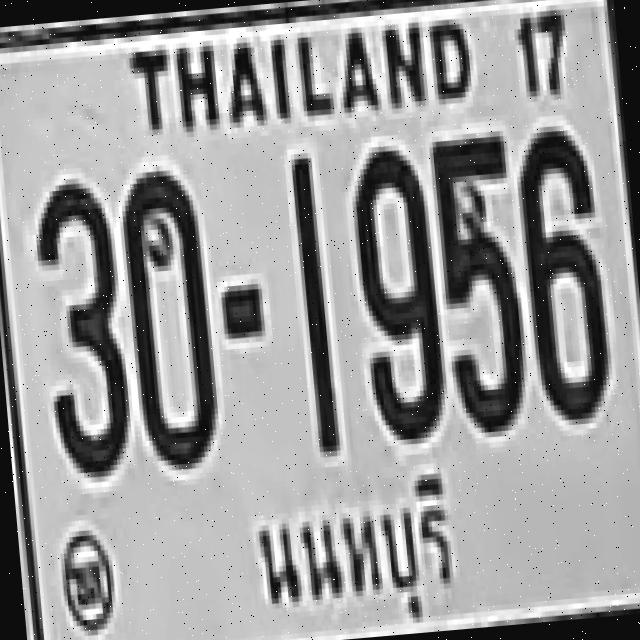0: (117, 162, 220, 467)
1: (286, 152, 336, 447)
3: (30, 178, 133, 478)
5: (428, 130, 528, 430)
6: (513, 124, 609, 422)
9: (348, 143, 444, 442)
Nonthaburi: (236, 456, 464, 640)
